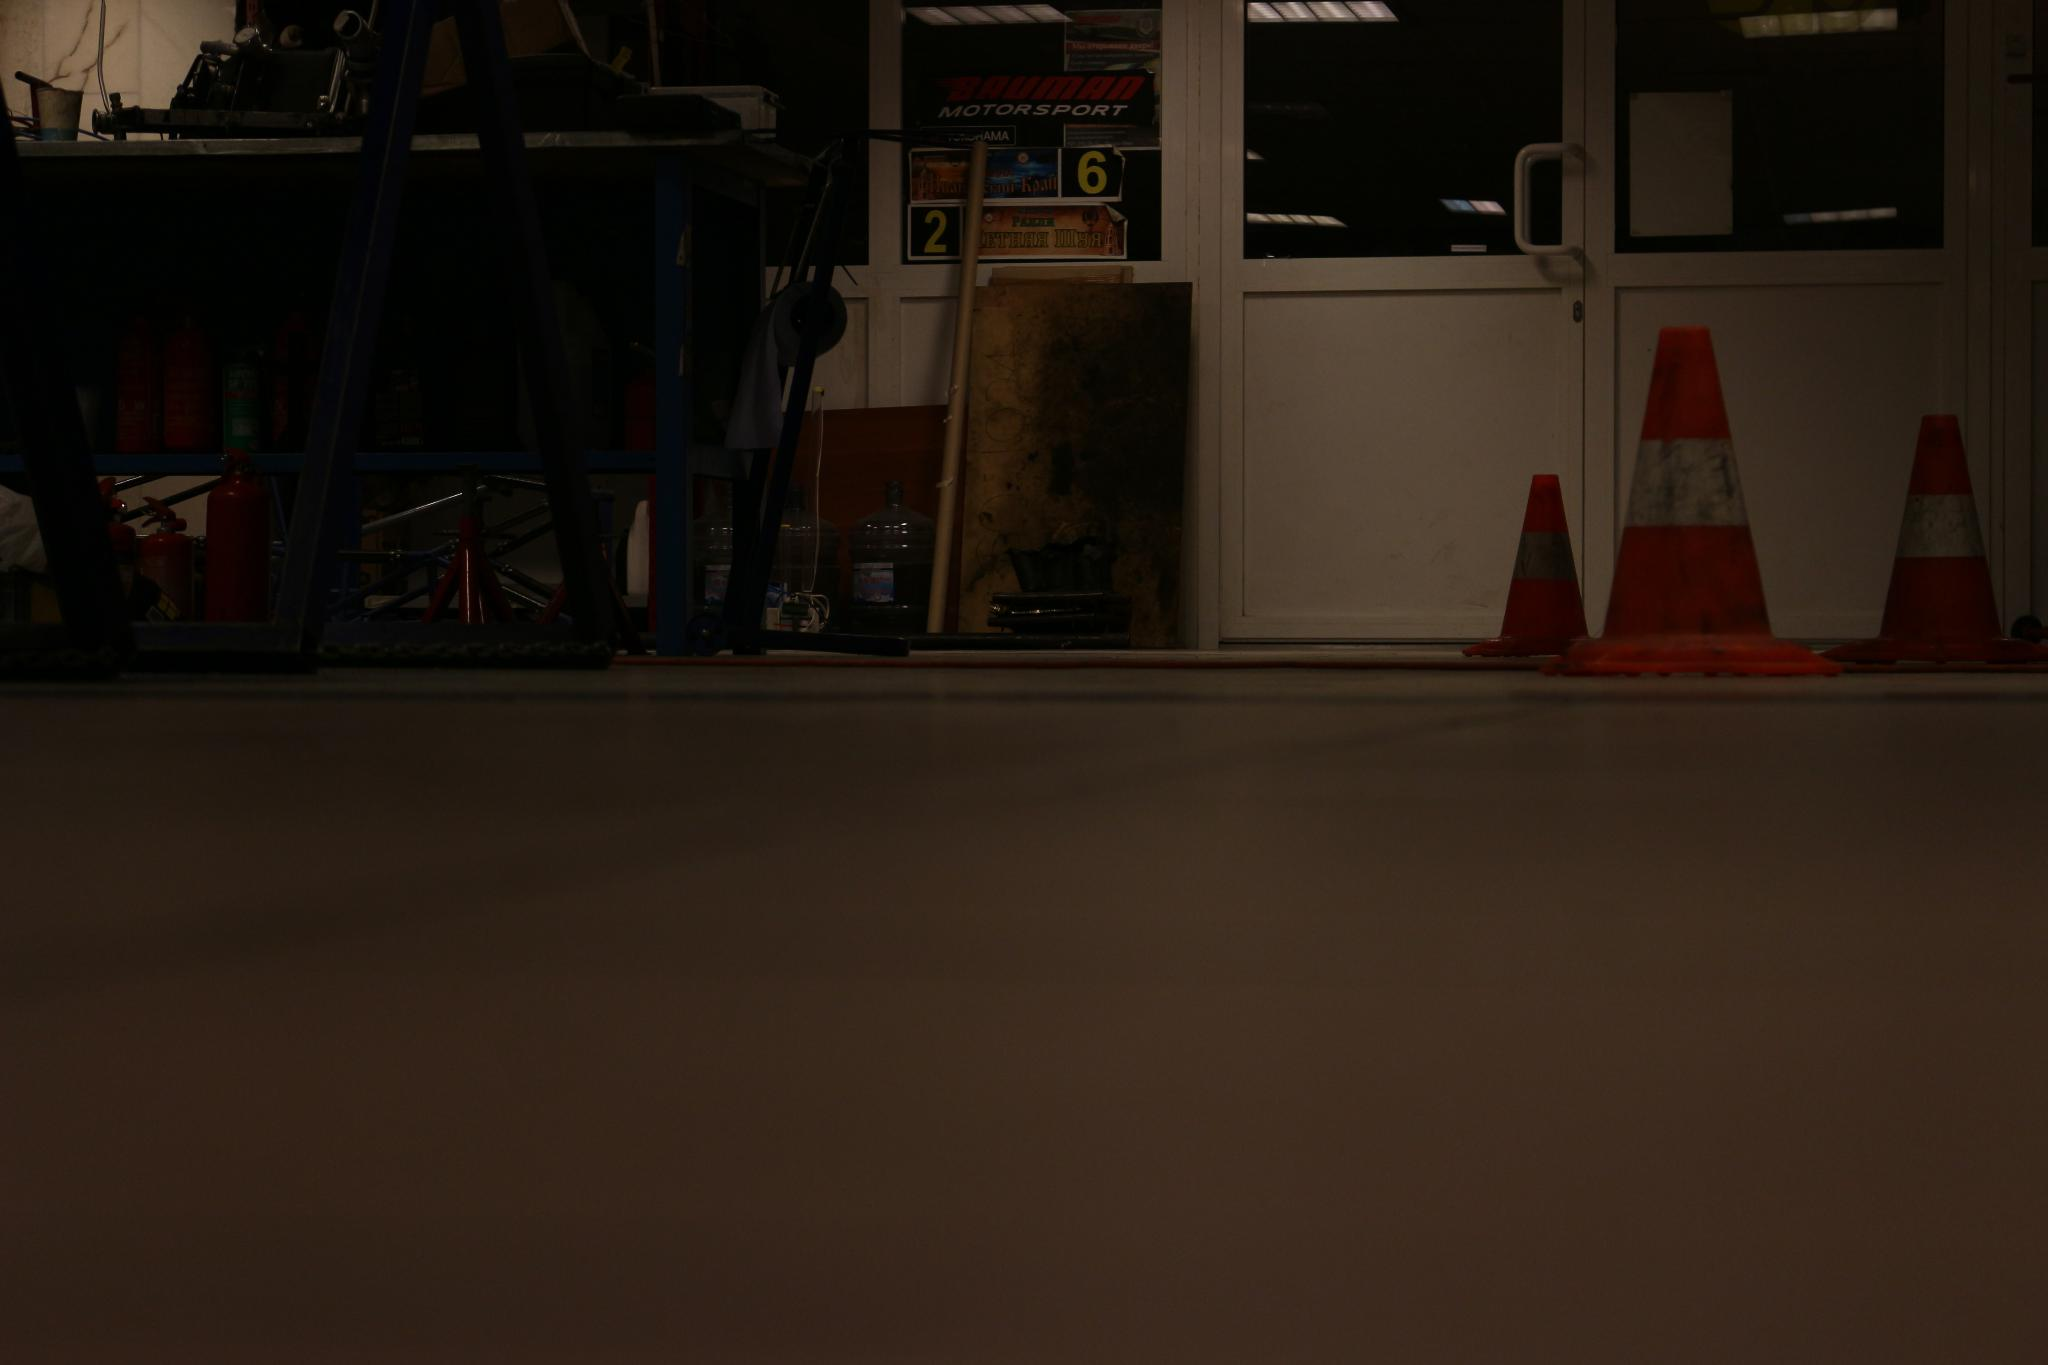Orange_Cone: (1571, 314, 1820, 689), (1864, 410, 1969, 675), (1468, 463, 1606, 660)
